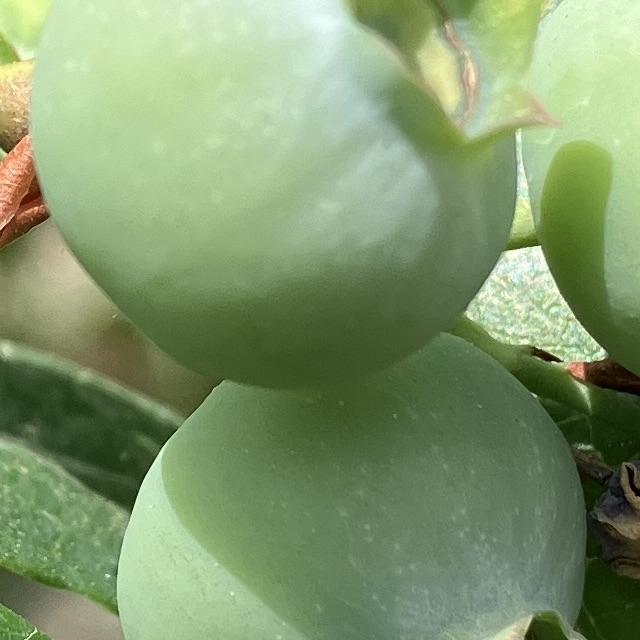Blueberries: (17, 0, 548, 392), (110, 326, 626, 640), (516, 0, 640, 406)
